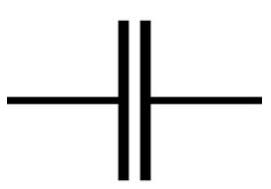Capacitor: (77, 16, 183, 183)
